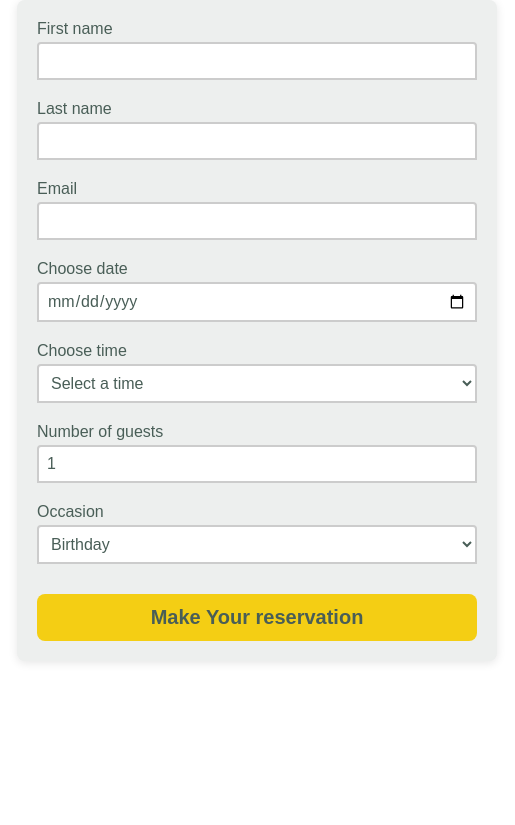
Test: JavaScript Validation Functions › Guests Validation › shows error for guests less than 1
This screenshot has width=515, height=825.
Replace the text in the number field labelled "Number of guests" with "0" at [257, 464], box [37,445,477,483]
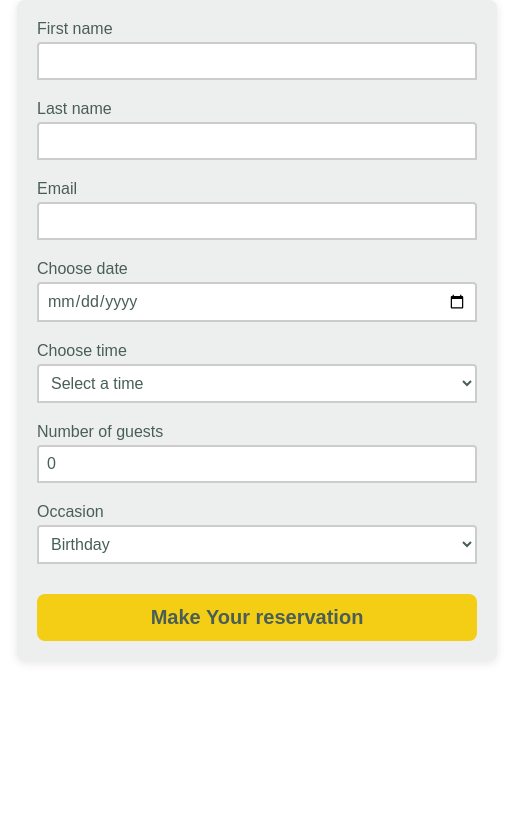
Leave the number field labelled "Number of guests", box [37,445,477,483]
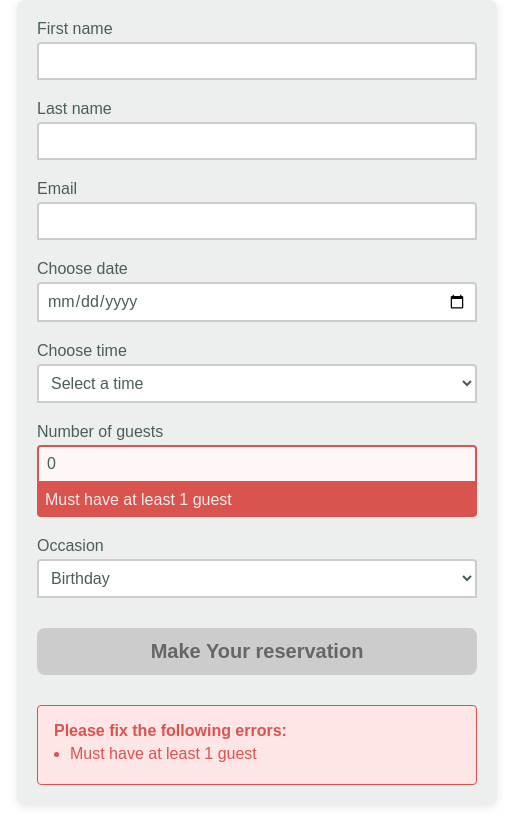
Result: the text "Must have at least 1 guest" is shown 2 times at [37,483,477,517]; [70,745,257,762]
